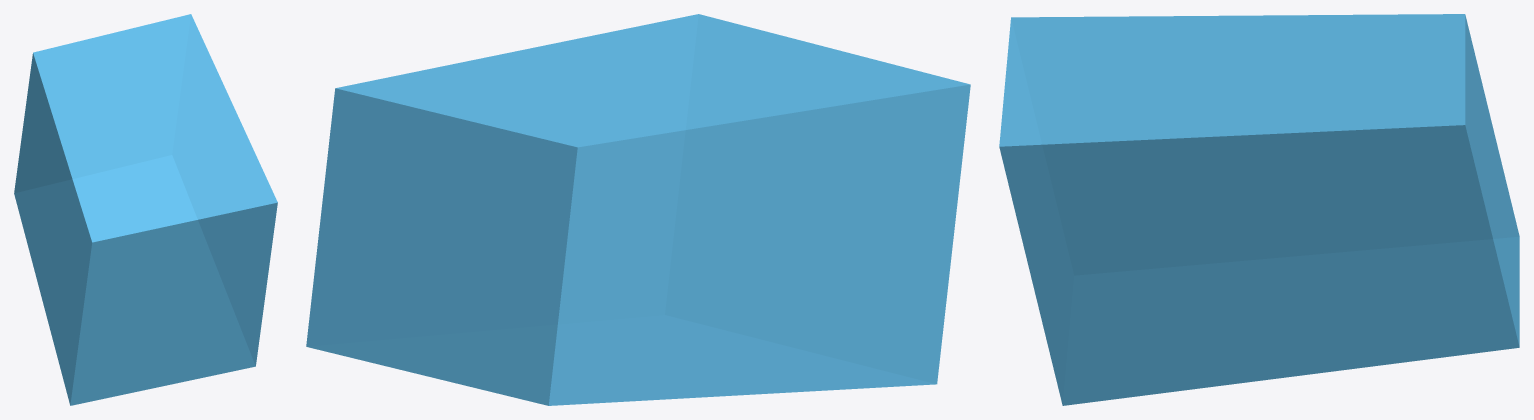
Rendered from Event_421115418_HBrechit_8.fbx.
3 views of the same model, side by side, from view 1: azimuth 30°, elevation 25°; view 2: azimuth 150°, elevation 25°; view 3: azimuth 270°, elevation 25° (orthographic). The views are drawn at different scales.
Visible parts, largest first — view 1: Model; view 2: Model; view 3: Model.
Part boxes in pixels (x1,y1,x2,y2): Model: (14, 14, 277, 405); Model: (306, 14, 970, 405); Model: (999, 14, 1519, 405).
Bounding box in the file's own units: 0.6807 × 0.5876 × 0.8306.
